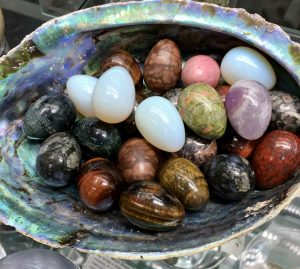egg: (131, 92, 190, 156), (216, 43, 282, 92), (90, 60, 138, 123)
stone: (117, 176, 190, 235), (172, 78, 236, 140), (221, 76, 277, 142), (20, 88, 82, 142), (252, 121, 300, 189), (79, 151, 125, 220), (33, 128, 85, 189), (200, 149, 255, 201), (139, 34, 187, 91), (182, 51, 223, 89)
